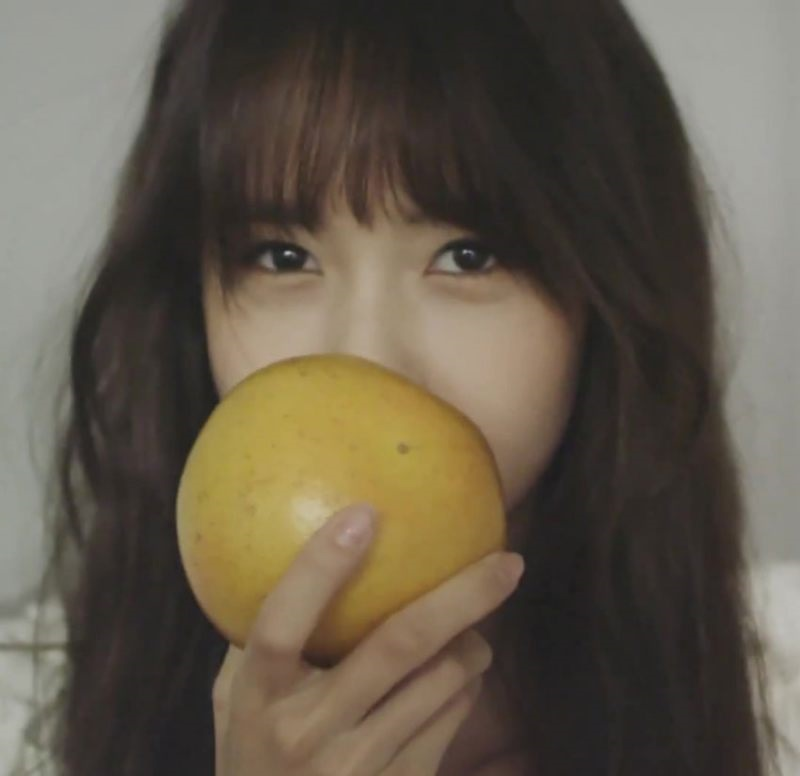face: (199, 67, 584, 562)
